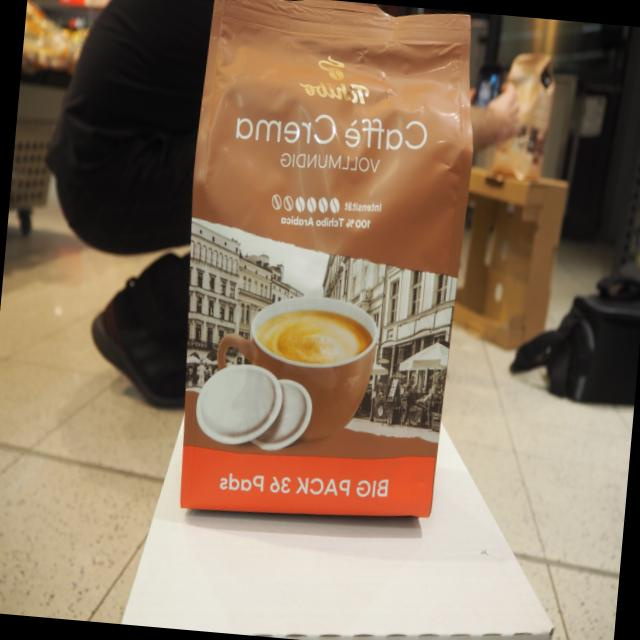CC Vollmundig: (158, 0, 490, 538)
